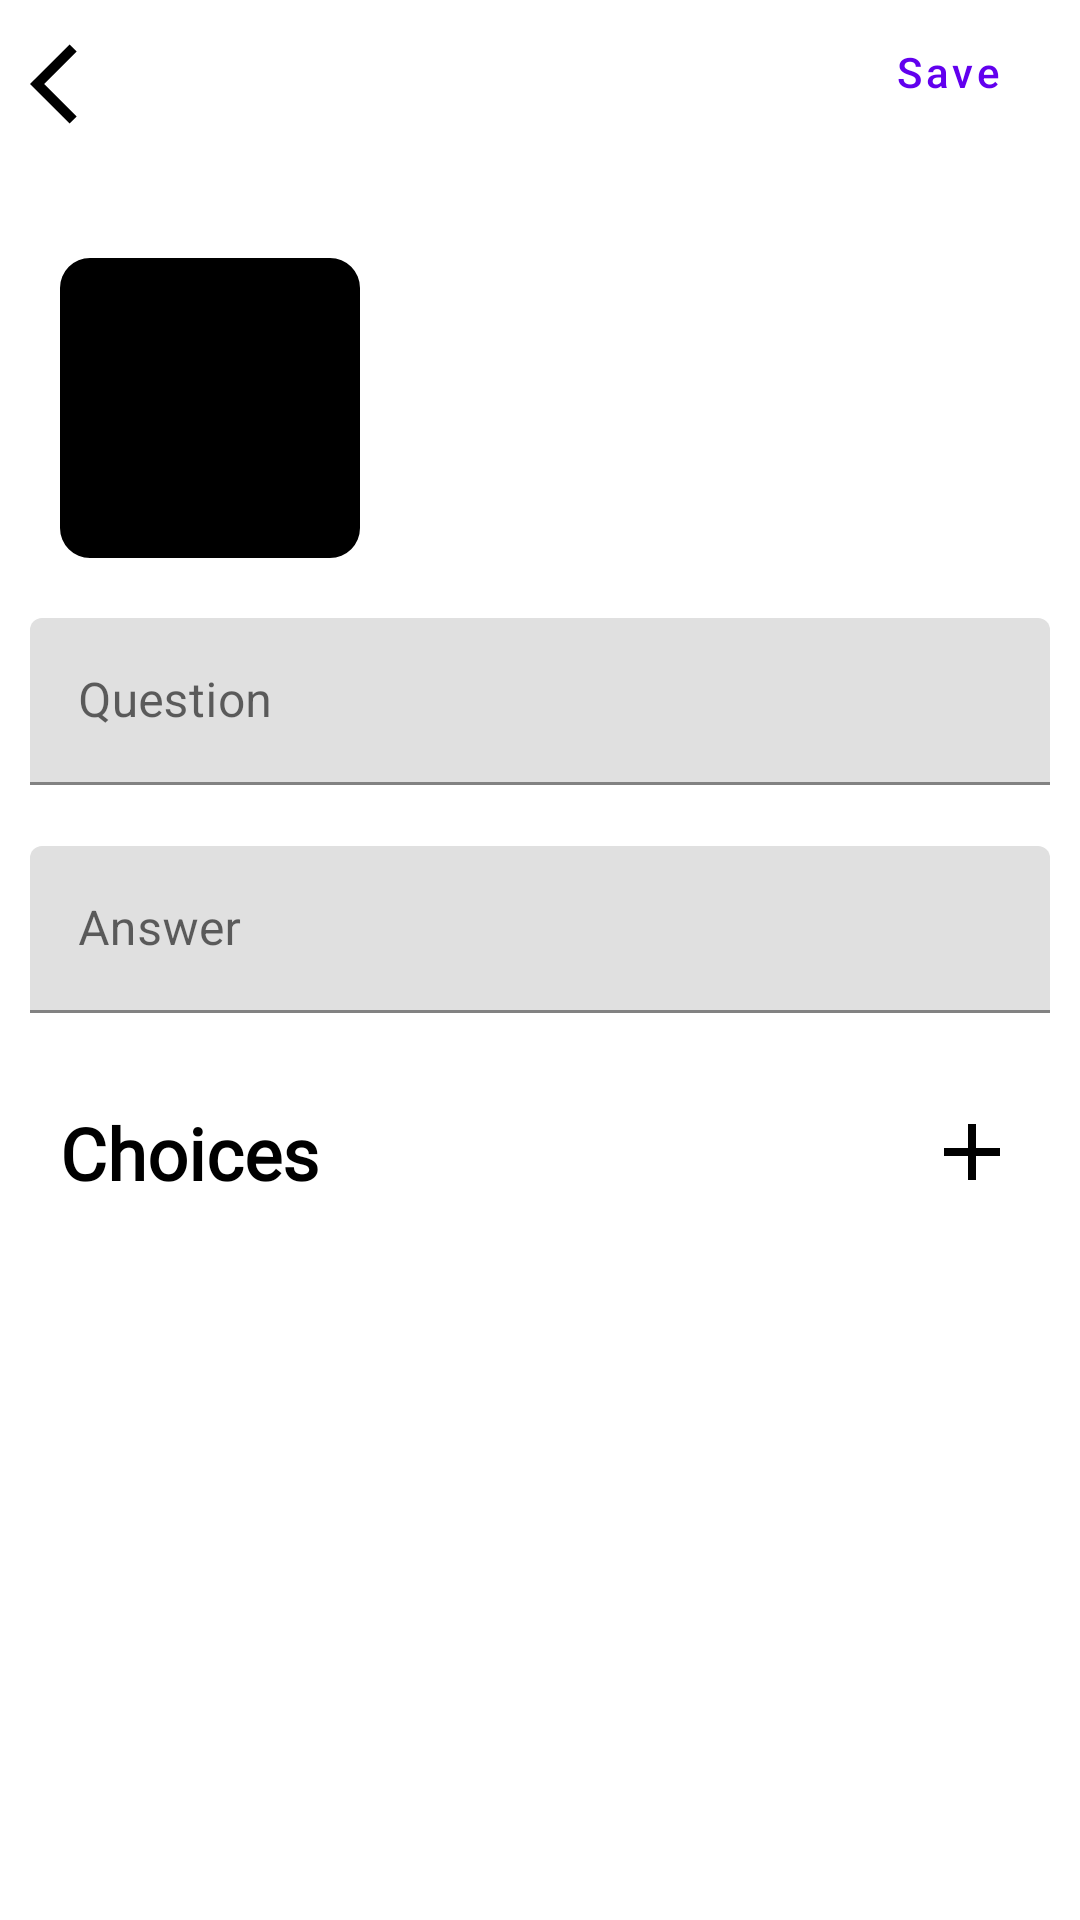

Screen size 1080×1920. Icon name, then its box in pixels as (x1, y1, x2, y2):
add: (944, 1124, 1000, 1180)
arrow back: (30, 44, 77, 124)
